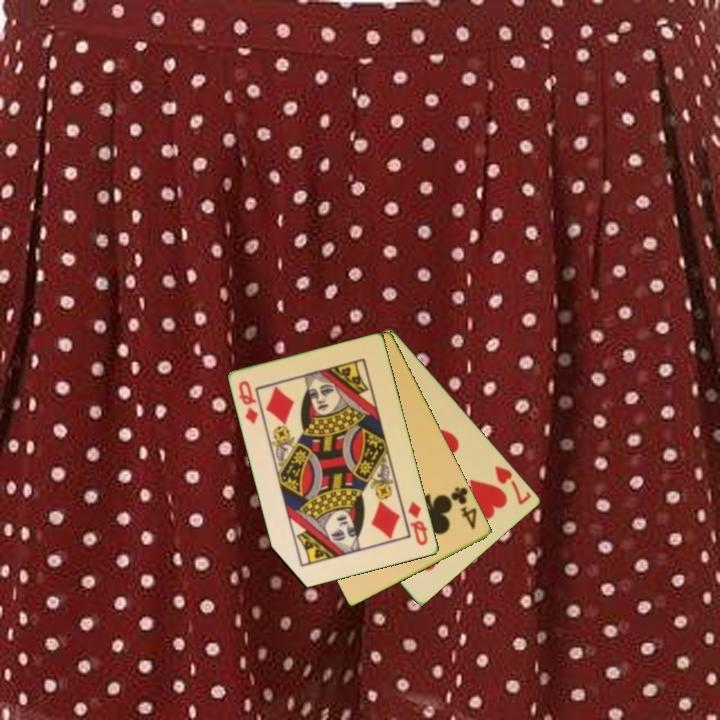4c: (445, 483, 480, 532)
7h: (492, 462, 534, 508)
Qd: (235, 377, 262, 427), (405, 498, 431, 549)
